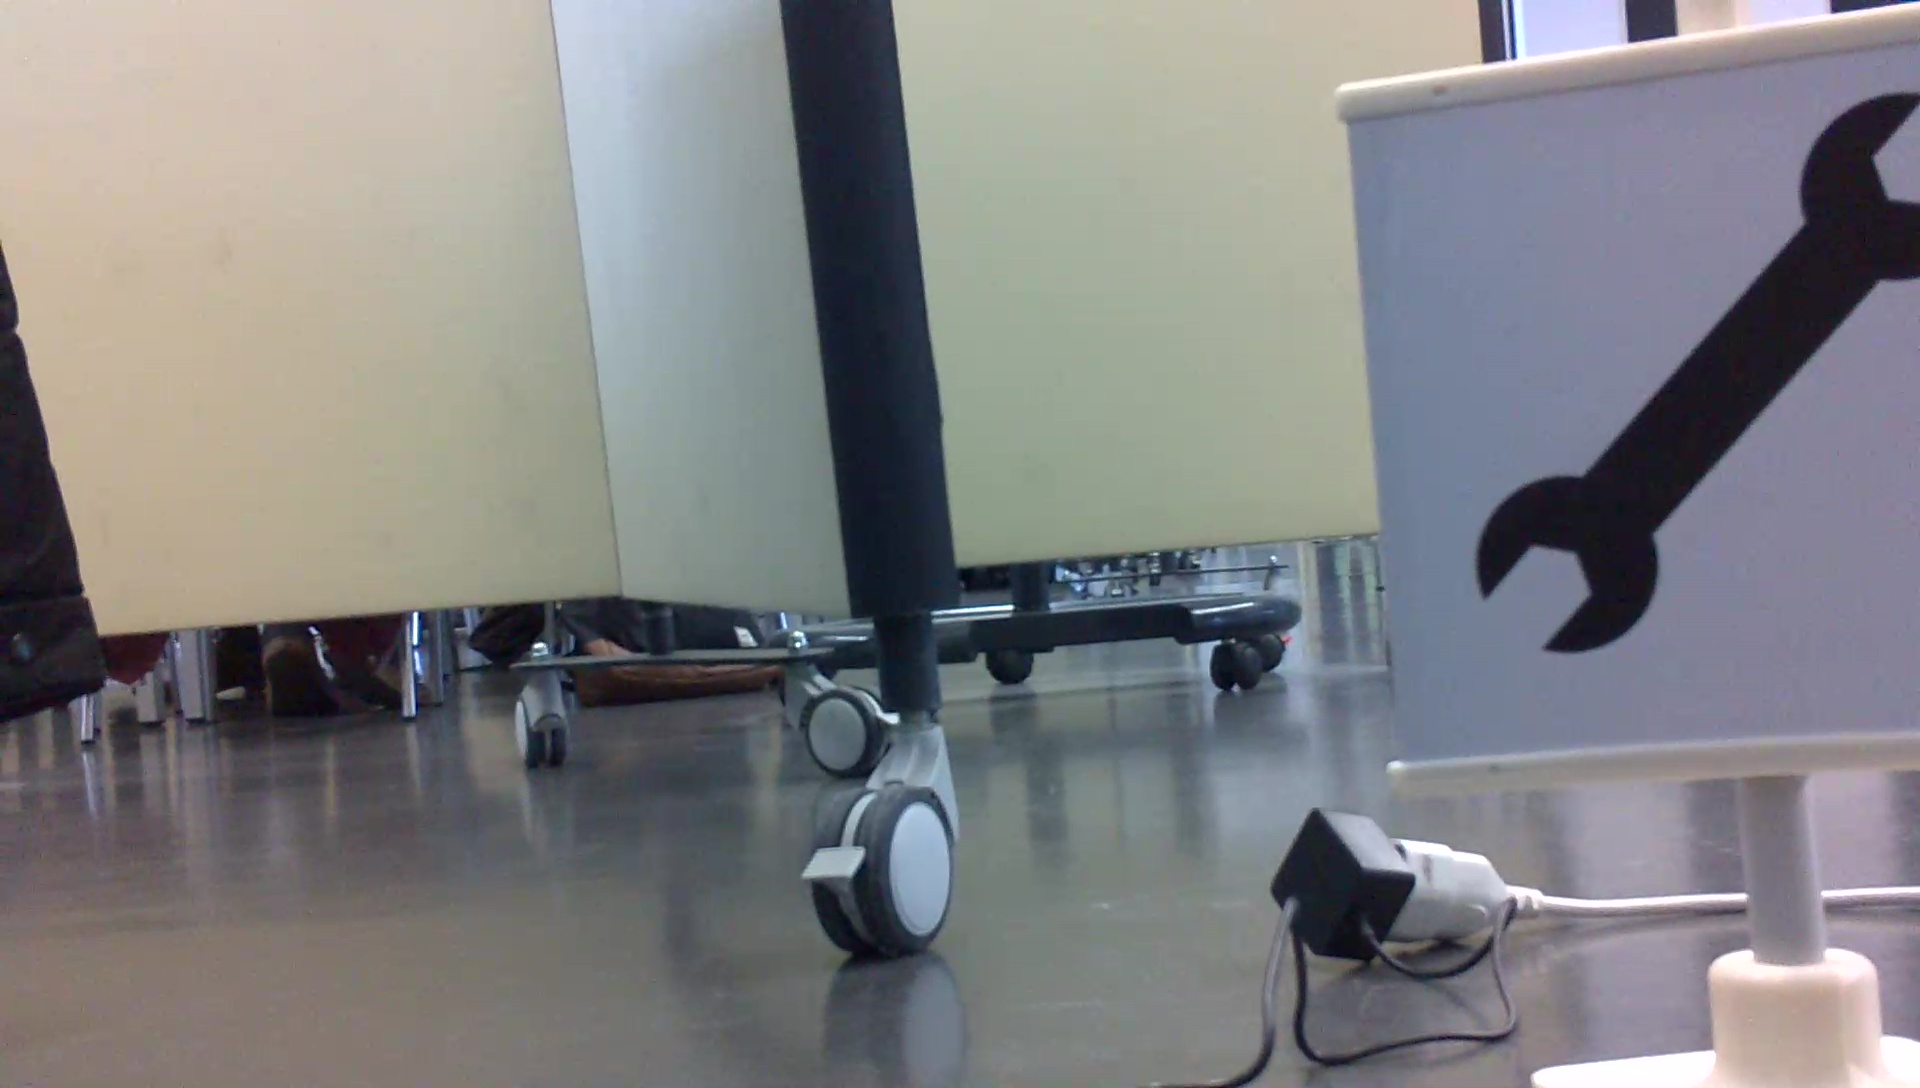wrench: (1462, 78, 1920, 662)
